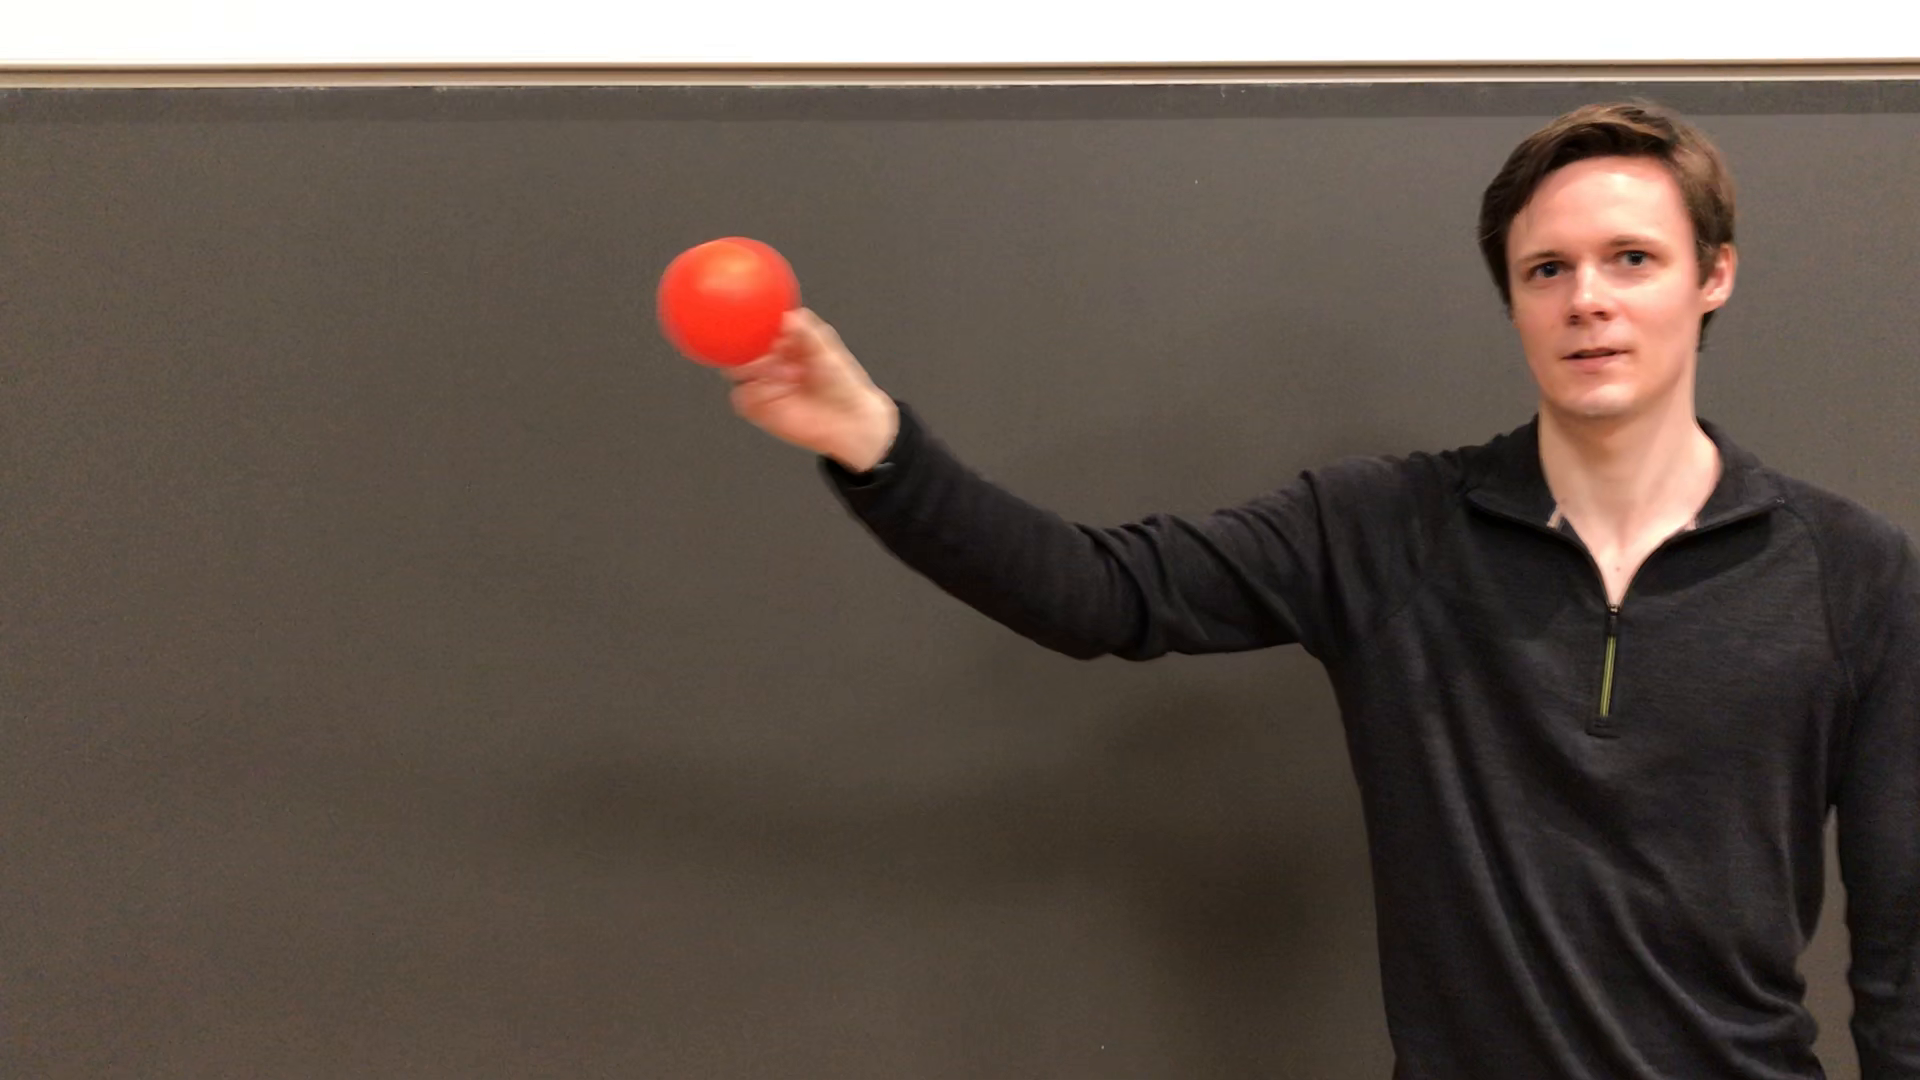Ball: (661, 233, 807, 369)
